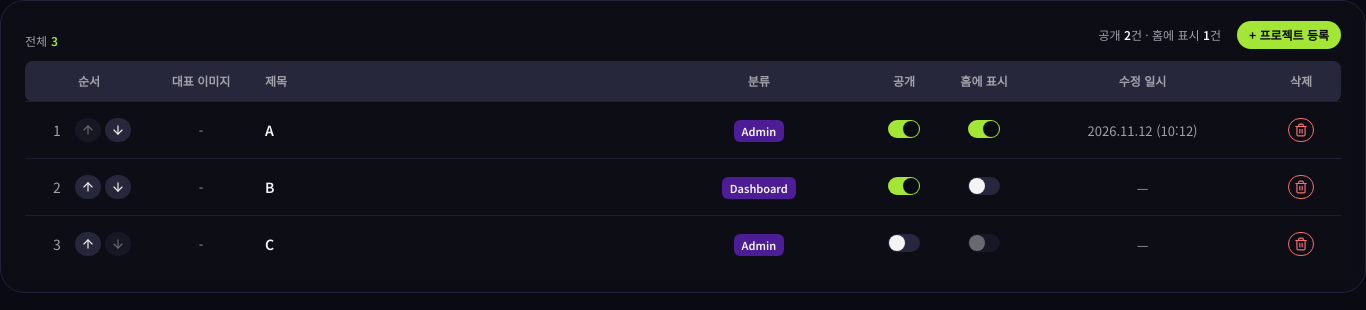
it: ProjectList › 공개를 끄면 홈에 표시도 함께 꺼지고 스위치가 비활성이 된다
Click the switch named "A 공개".
click(904, 128)  # box [888,120,920,138]
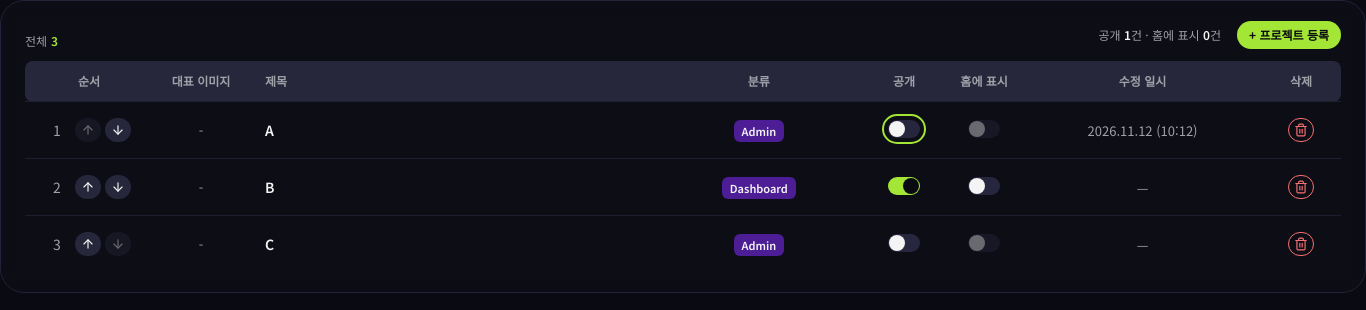
Check: the switch named "A 홈에 표시" is not checked, box [968,120,1000,138]
Check: the switch named "A 홈에 표시" is disabled, box [968,120,1000,138]
Check: the text "공개 1건 · 홈에 표시 0건" is shown, box [1098,27,1221,43]
